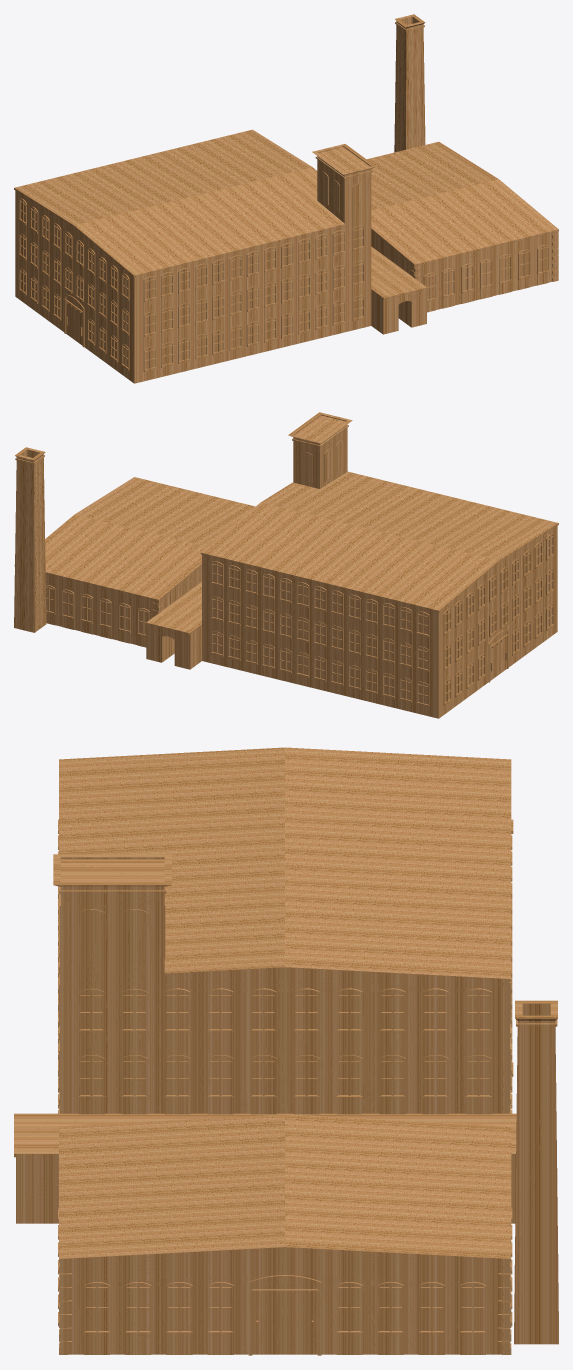
The model's file is Mill_LOD0.fbx.
3 views of the same model, one above another, from view 1: azimuth 30°, elevation 25°; view 2: azimuth 150°, elevation 25°; view 3: azimuth 270°, elevation 25° (orthographic). The views are drawn at different scales.
Parts seen in each view (by area): view 1: Model; view 2: Model; view 3: Model.
Boxes of the visible parts, <box> form: Model: <box>14,14,558,383</box>; Model: <box>14,412,558,718</box>; Model: <box>14,747,558,1355</box>.
Bounding box in the file's own units: 248 × 96 × 146.
Materials: 1 (1 with a texture image).
